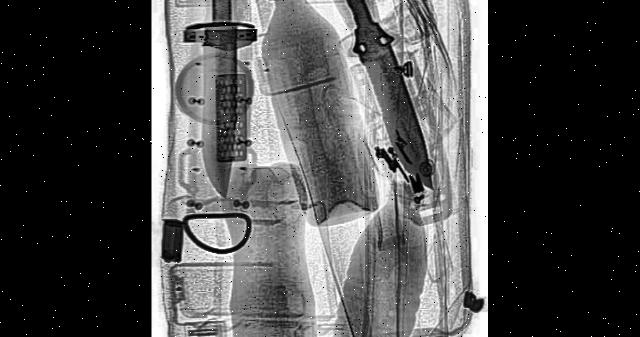Knife: (319, 0, 445, 210), (182, 0, 255, 199)
